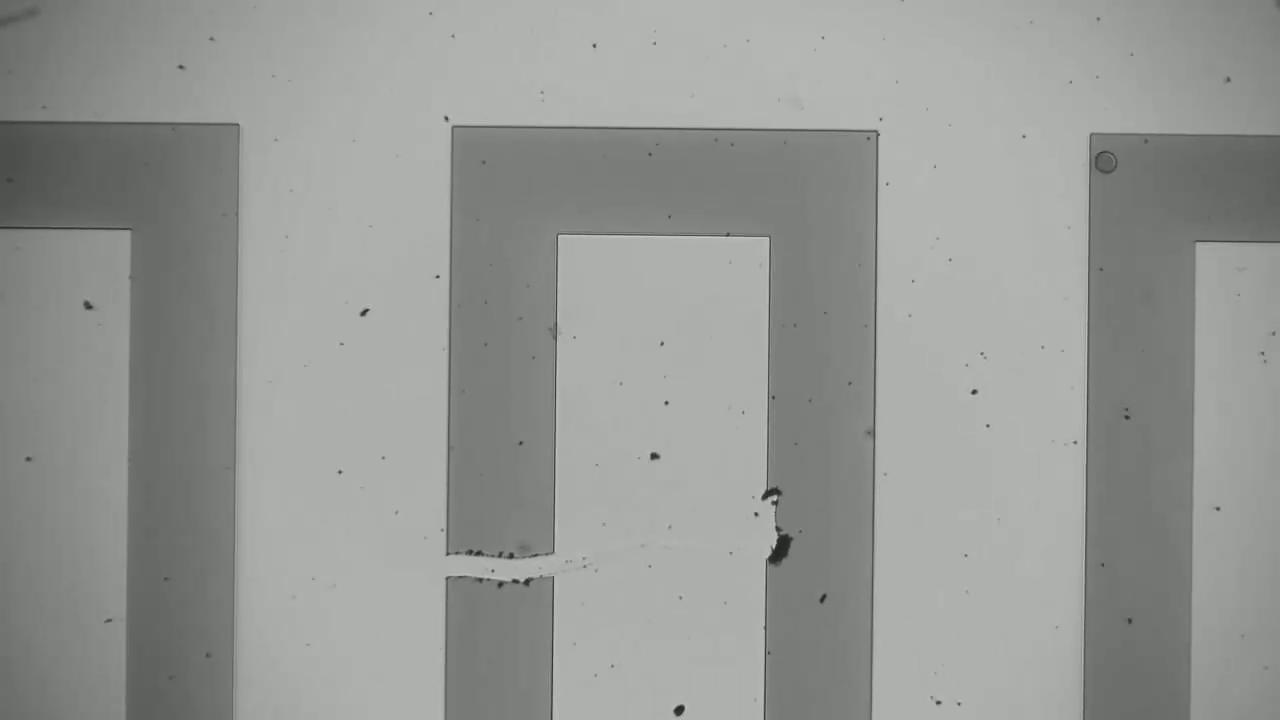Short_circuit: (418, 527, 600, 614)
